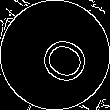O_NW: (22, 24, 88, 86)
